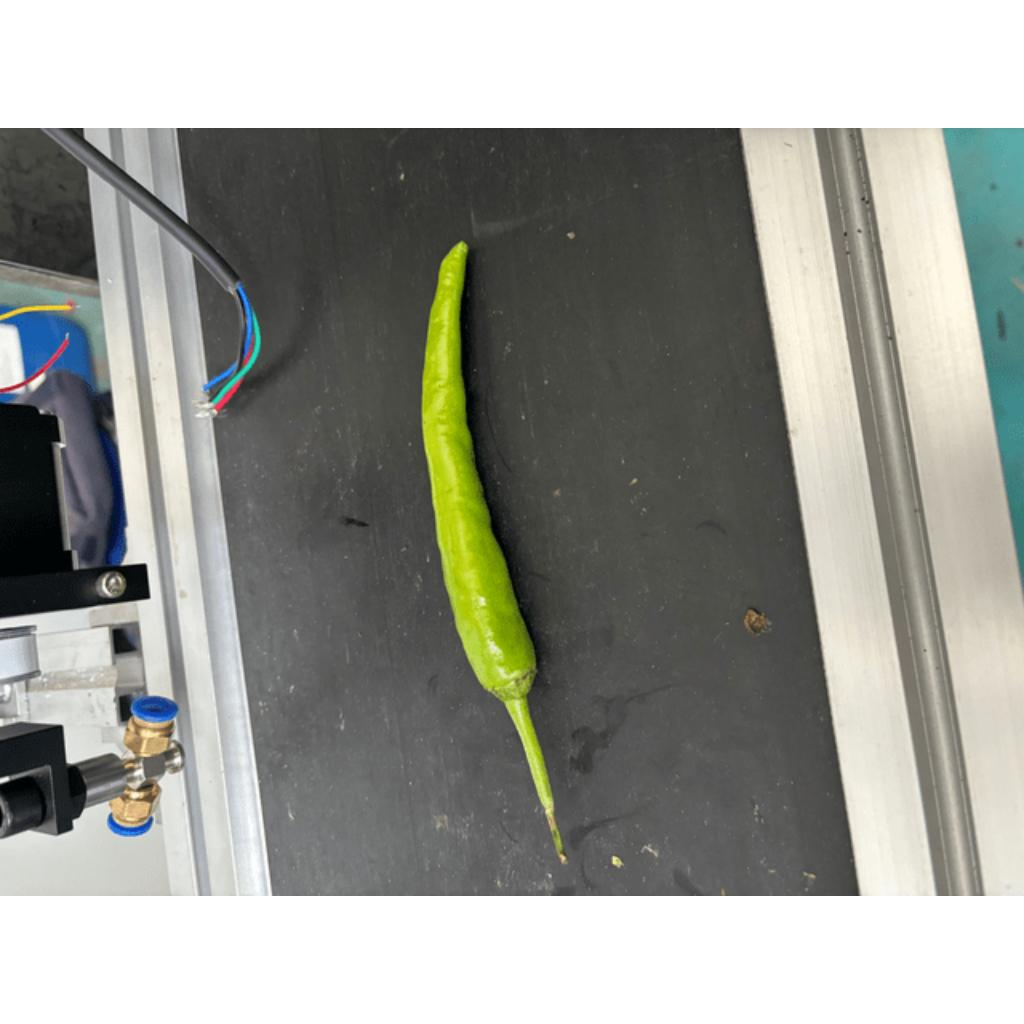chili: (418, 237, 541, 702)
